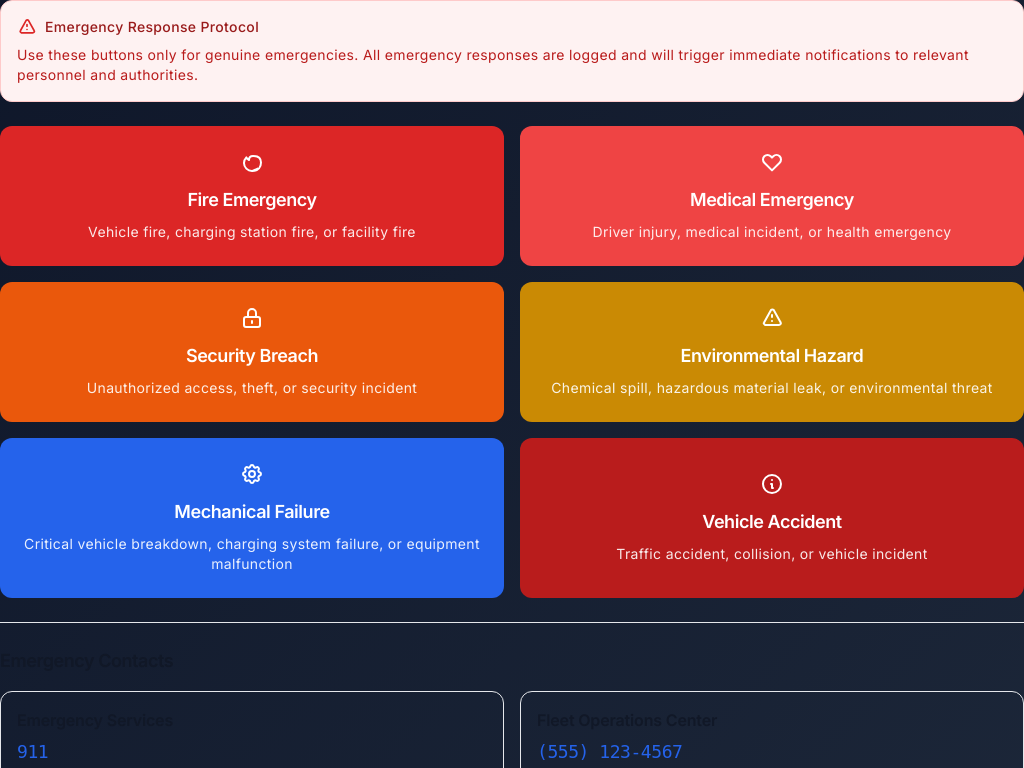
Scenario: EmergencyResponsePanel › closes modal when cancel is clicked
This screenshot has width=1024, height=768.
What coordinates should you click on to do the following:
click the heading "Security Breach"
I would click on:
 (252, 356)
Its box is [186,345,318,366].
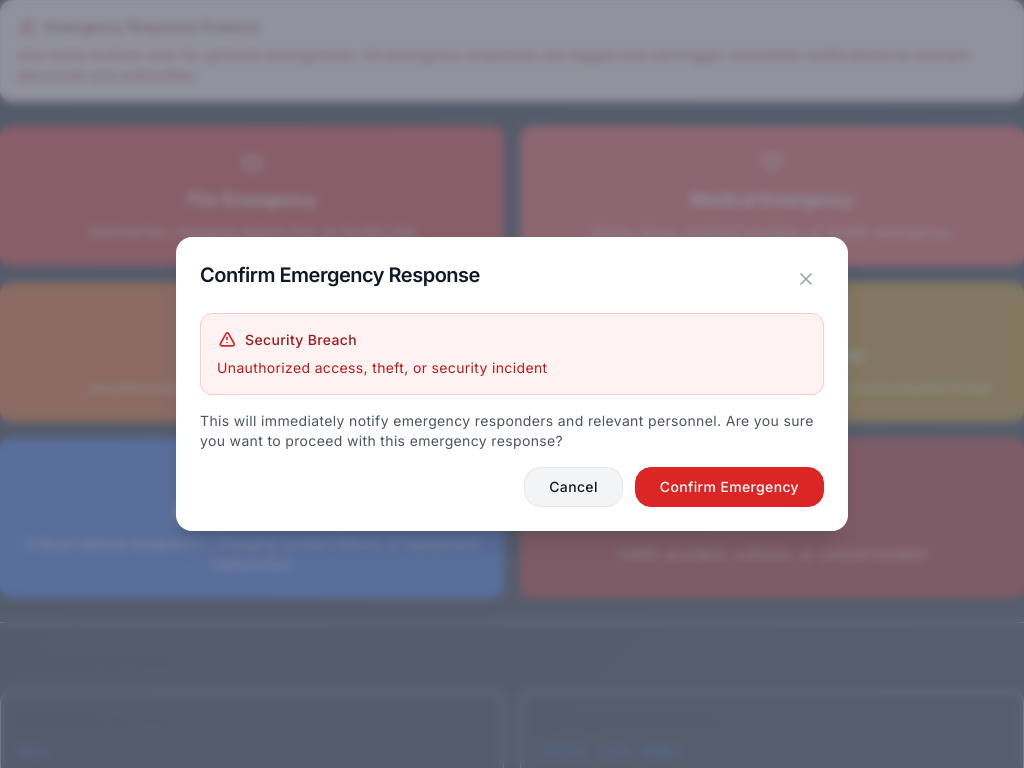
expect the heading "Confirm Emergency Response" is shown: met, box [200,261,496,289]
What coordinates should you click on to do the following:
click the button "Cancel"
I would click on:
 (574, 487)
Its box is [524,467,623,507].
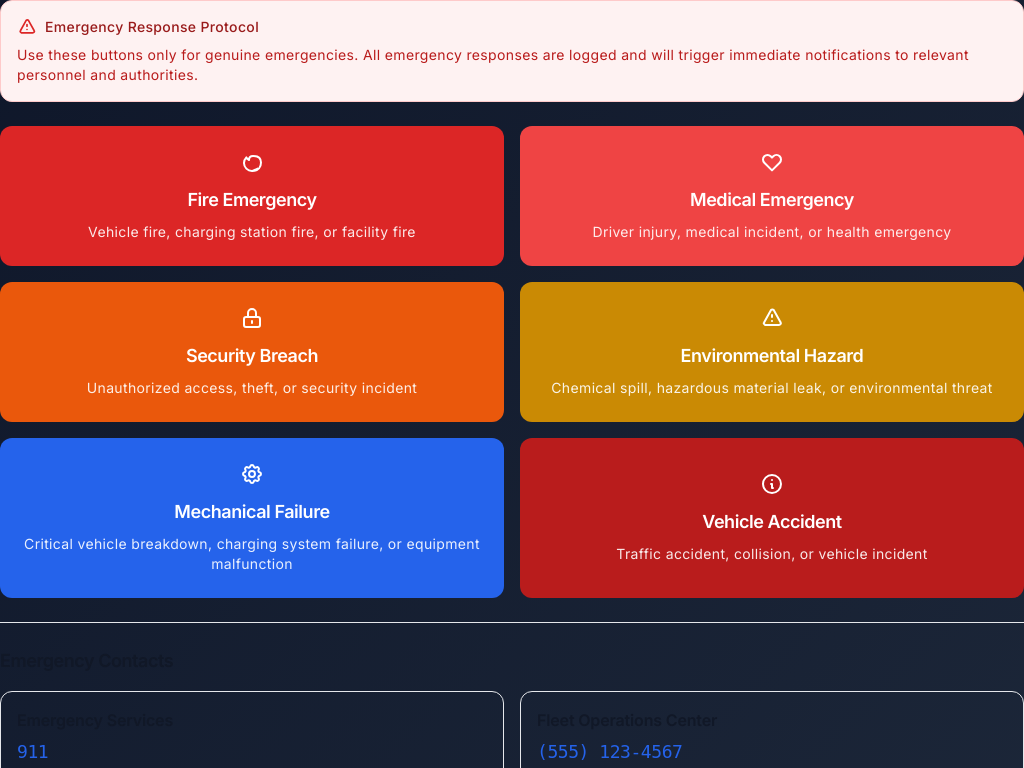
expect the heading "Confirm Emergency Response" is gone: met
